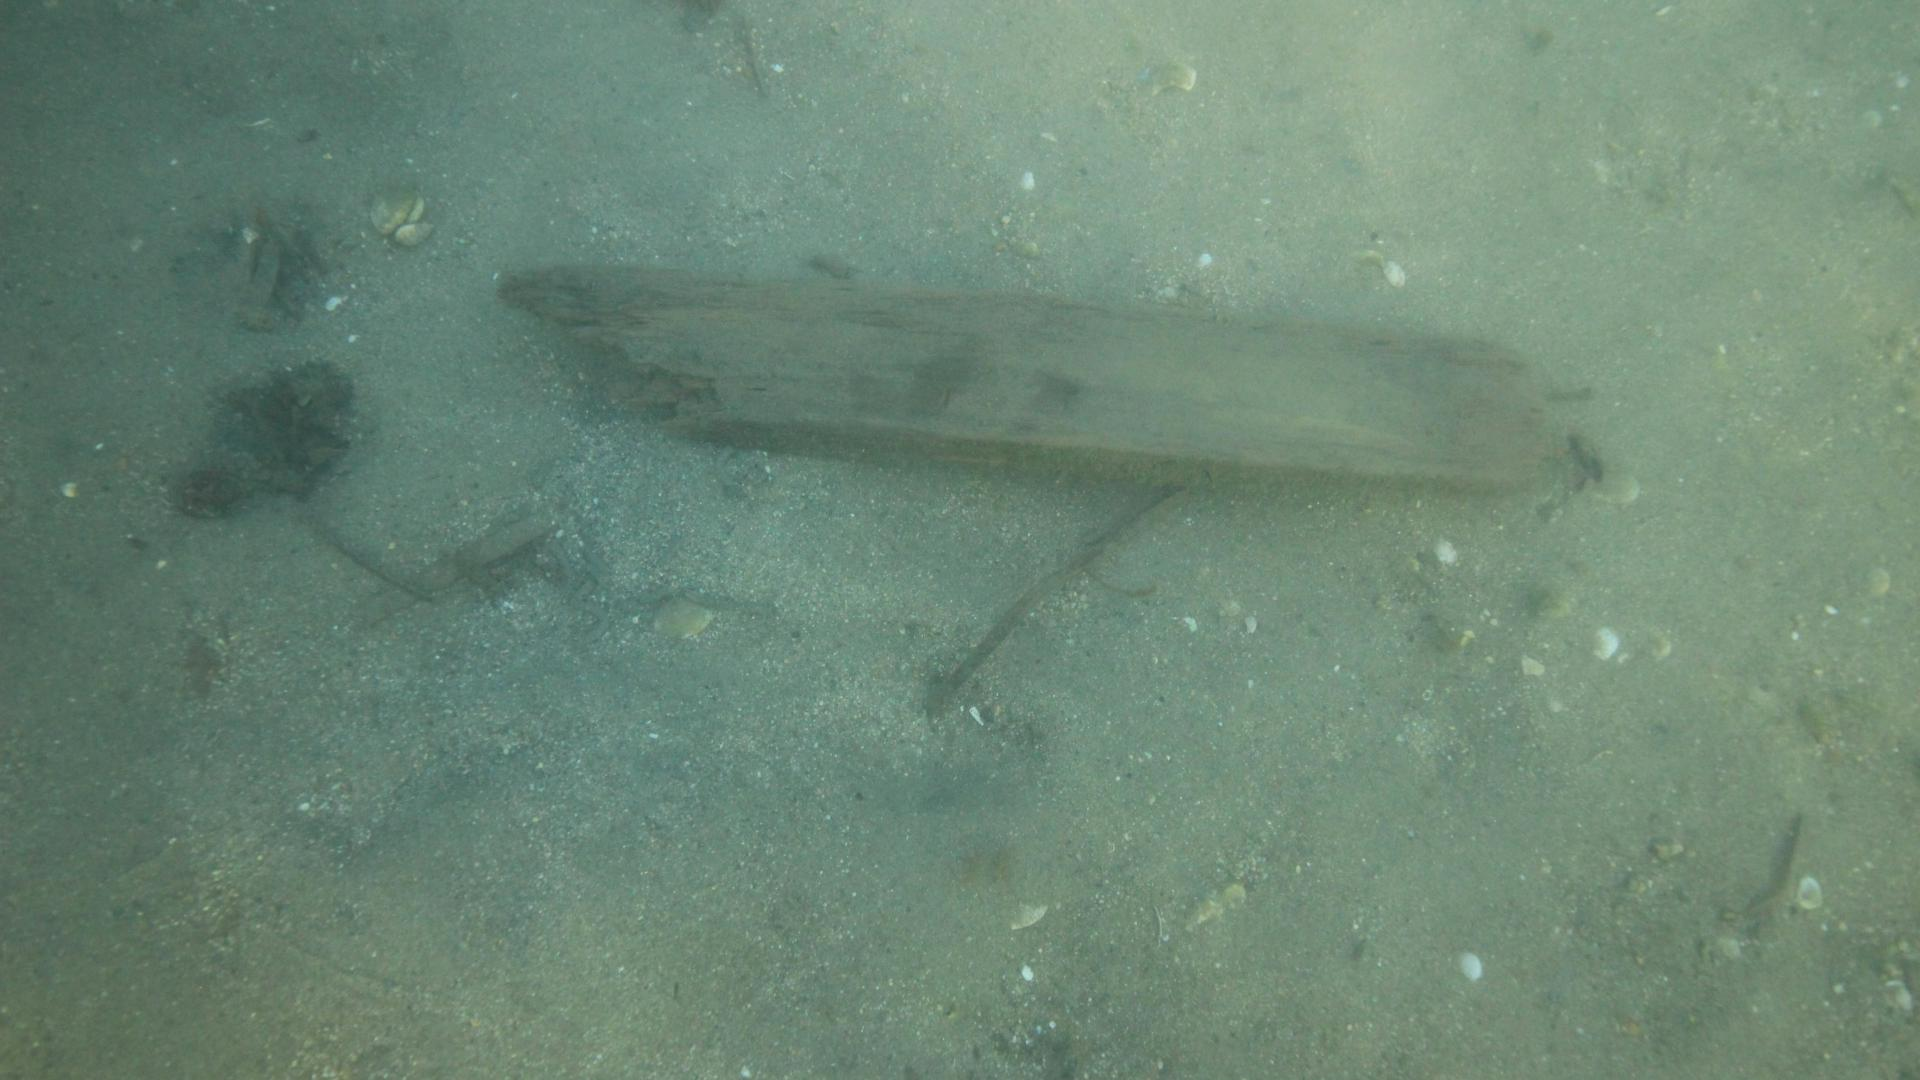wood: (492, 262, 1553, 491)
